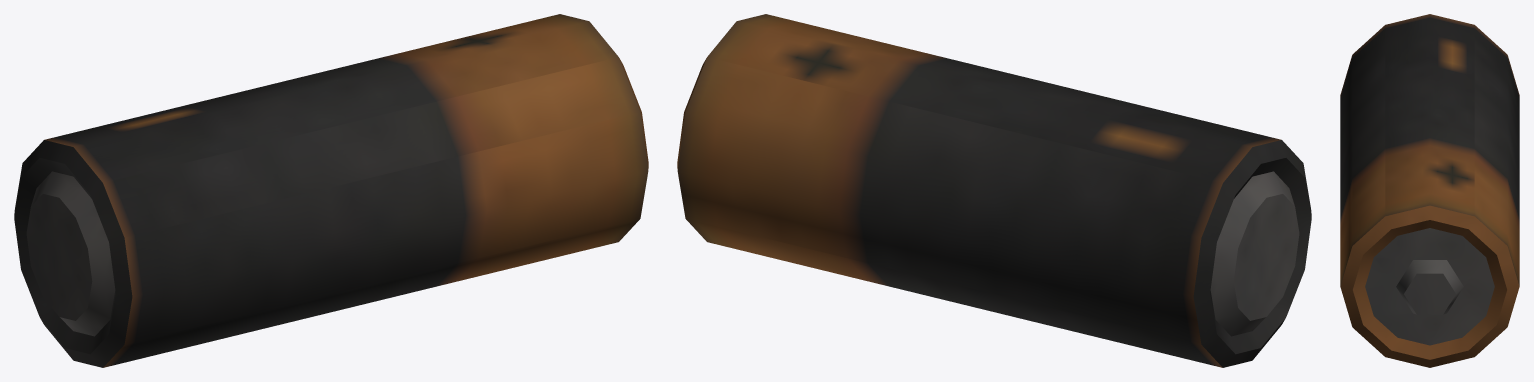
Rendered from battery_mp_1.obj.
The picture shows the model from 3 angles, left to right: view 1: azimuth 30°, elevation 25°; view 2: azimuth 150°, elevation 25°; view 3: azimuth 270°, elevation 25°; orthographic projection. The views are drawn at different scales.
Visible parts, largest first — view 1: battery_mp_1; view 2: battery_mp_1; view 3: battery_mp_1.
Boxes of the visible parts, <box> form: battery_mp_1: <box>14,14,648,367</box>; battery_mp_1: <box>677,14,1311,367</box>; battery_mp_1: <box>1340,14,1519,367</box>.
Size of the model in its own units: 3.1 by 1.15 by 1.15.
Materials: 1 (1 with a texture image).
